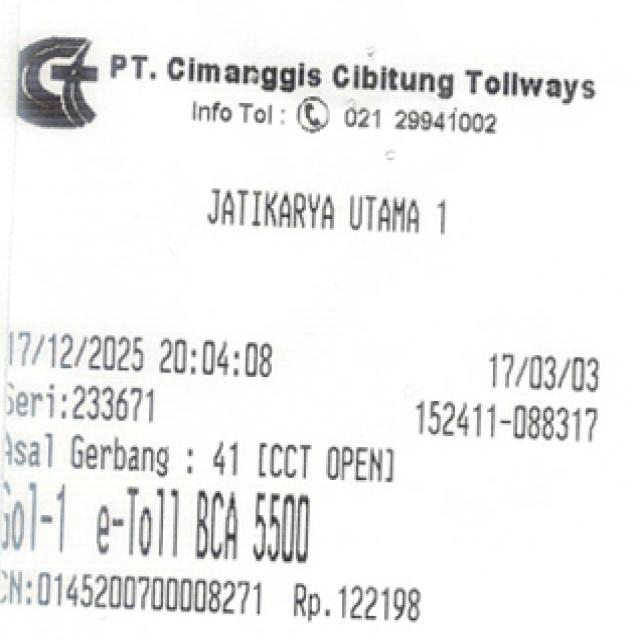date: (0, 320, 279, 382)
store: (109, 45, 602, 105)
total: (250, 490, 316, 568)
